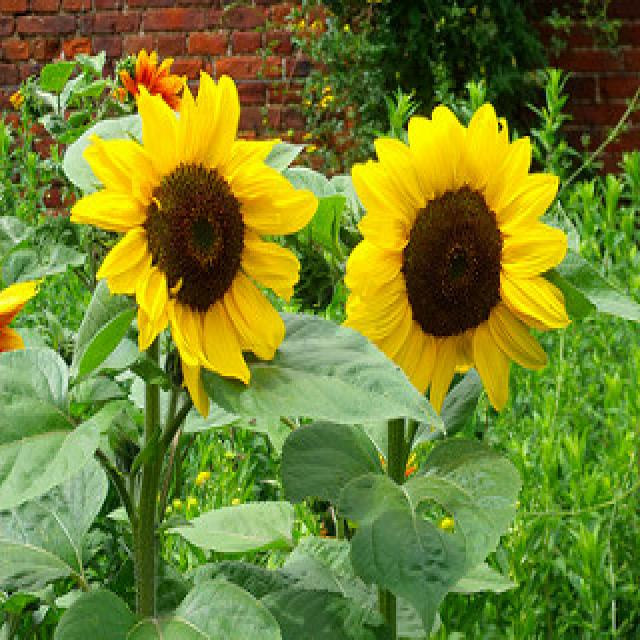sunflower: (78, 67, 318, 400), (339, 94, 575, 414)
